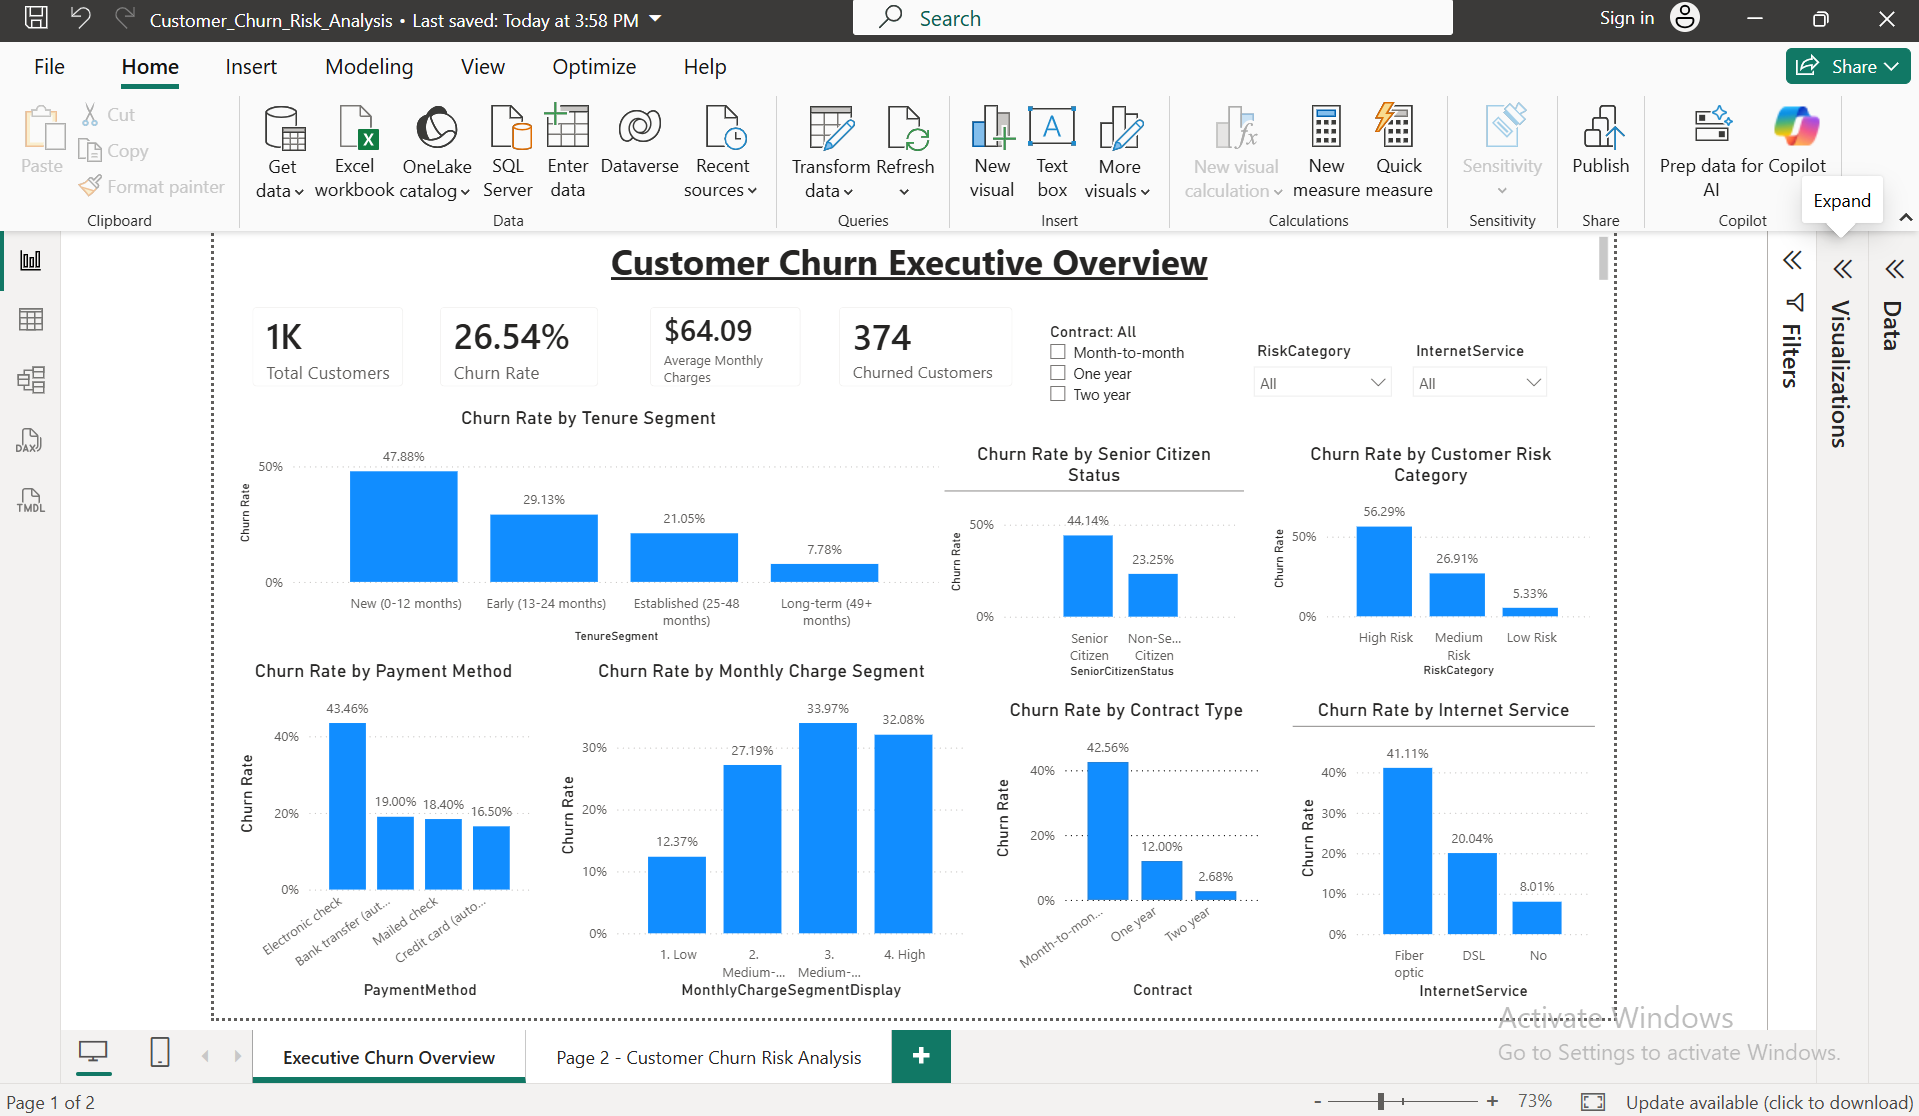

The page's visual inventory and layout, read from the dashboard file:
{"tool":"powerbi","page":{"name":"Executive Churn Overview","canvas":[1280,720],"ordinal":0},"visuals":[{"type":"cardVisual","fields":{"Data":["customer_churn_powerbi.Total Customers"]},"box":[17.5,52.5,172,107.9],"z":0},{"type":"cardVisual","fields":{"Data":["customer_churn_powerbi.Churned Customers"]},"box":[554,52.5,193.9,107.9],"z":1000},{"type":"cardVisual","fields":{"Data":["customer_churn_powerbi.Churn Rate"]},"box":[189.5,52.5,179.3,107.9],"z":2000},{"type":"cardVisual","fields":{"Data":["customer_churn_powerbi.Average Monthly Charges"]},"box":[382,52.5,172,107.9],"z":3000},{"type":"clusteredColumnChart","title":"Churn Rate by Contract Type","fields":{"Category":["customer_churn_powerbi.Contract"],"Y":["customer_churn_powerbi.Churn Rate"]},"box":[708.5,428.6,253.7,278.5],"z":4000},{"type":"clusteredColumnChart","title":"Churn Rate by Internet Service","fields":{"Category":["customer_churn_powerbi.InternetService"],"Y":["customer_churn_powerbi.Churn Rate"]},"box":[987,428.6,277,278.5],"z":5000},{"type":"clusteredColumnChart","title":"Churn Rate by Customer Risk Category","fields":{"Category":["customer_churn_powerbi.RiskCategory"],"Y":["customer_churn_powerbi.Churn Rate"]},"box":[963.6,193.9,300.3,218.7],"z":6000},{"type":"clusteredColumnChart","title":"Churn Rate by Payment Method","fields":{"Category":["customer_churn_powerbi.PaymentMethod"],"Y":["customer_churn_powerbi.Churn Rate"]},"box":[17,393.1,277.8,313.7],"z":7000},{"type":"clusteredColumnChart","title":"Churn Rate by Tenure Segment","fields":{"Y":["customer_churn_powerbi.Churn Rate"],"Category":["customer_churn_powerbi.TenureSegment"]},"box":[17.5,160.4,650.2,220.1],"z":8000},{"type":"clusteredColumnChart","title":"Churn Rate by Monthly Charge Segment","fields":{"Y":["customer_churn_powerbi.Churn Rate"],"Category":["customer_churn_powerbi.MonthlyChargeSegmentDisplay"]},"box":[309.9,393.1,381.7,313.7],"z":9000},{"type":"clusteredColumnChart","title":"Churn Rate by Senior Citizen Status","fields":{"Y":["customer_churn_powerbi.Churn Rate"],"Category":["customer_churn_powerbi.SeniorCitizenStatus"]},"box":[667.7,193.9,274.1,218.7],"z":10000},{"type":"textbox","box":[0,0,1280,51],"z":10001},{"type":"slicer","fields":{"Values":["customer_churn_powerbi.Contract"]},"box":[752.3,78.7,166.2,96.2],"z":10002},{"type":"slicer","fields":{"Values":["customer_churn_powerbi.InternetService"]},"box":[1087.6,96.2,142.9,64.1],"z":10003},{"type":"slicer","fields":{"Values":["customer_churn_powerbi.RiskCategory"]},"box":[941.8,96.2,145.8,59.8],"z":10004}]}

Visuals, with their boxes on the page's 1280x720 design canvas (x1, y1, x2, y2). These are canvas units, not pixel positions in the 1919x1116 screenshot, which may show the page scaled, cropped or inside an application window:
cardVisual - customer_churn_powerbi.Total Customers: <bbox>18, 52, 190, 160</bbox>
cardVisual - customer_churn_powerbi.Churned Customers: <bbox>554, 52, 748, 160</bbox>
cardVisual - customer_churn_powerbi.Churn Rate: <bbox>190, 52, 369, 160</bbox>
cardVisual - customer_churn_powerbi.Average Monthly Charges: <bbox>382, 52, 554, 160</bbox>
"Churn Rate by Contract Type" clusteredColumnChart: <bbox>708, 429, 962, 707</bbox>
"Churn Rate by Internet Service" clusteredColumnChart: <bbox>987, 429, 1264, 707</bbox>
"Churn Rate by Customer Risk Category" clusteredColumnChart: <bbox>964, 194, 1264, 413</bbox>
"Churn Rate by Payment Method" clusteredColumnChart: <bbox>17, 393, 295, 707</bbox>
"Churn Rate by Tenure Segment" clusteredColumnChart: <bbox>18, 160, 668, 380</bbox>
"Churn Rate by Monthly Charge Segment" clusteredColumnChart: <bbox>310, 393, 692, 707</bbox>
"Churn Rate by Senior Citizen Status" clusteredColumnChart: <bbox>668, 194, 942, 413</bbox>
textbox: <bbox>0, 0, 1280, 51</bbox>
slicer - customer_churn_powerbi.Contract: <bbox>752, 79, 918, 175</bbox>
slicer - customer_churn_powerbi.InternetService: <bbox>1088, 96, 1230, 160</bbox>
slicer - customer_churn_powerbi.RiskCategory: <bbox>942, 96, 1088, 156</bbox>
